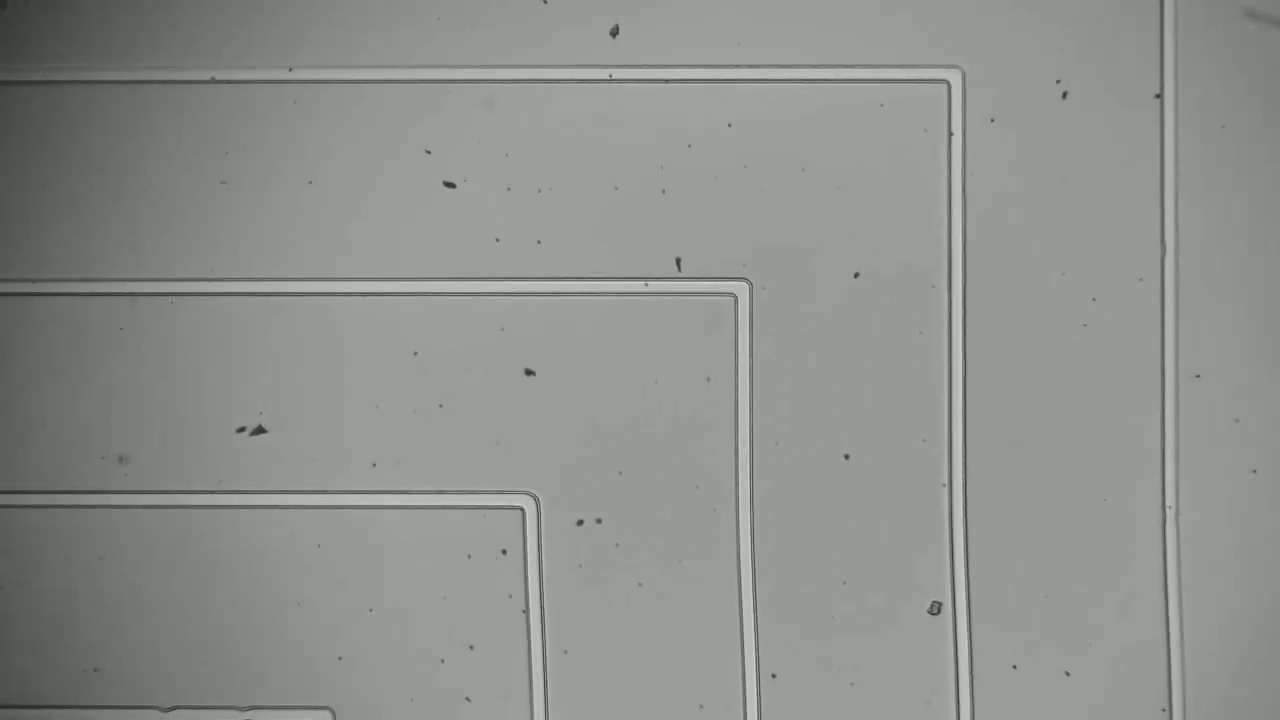edge_bite: (150, 699, 184, 720), (226, 697, 254, 720)
